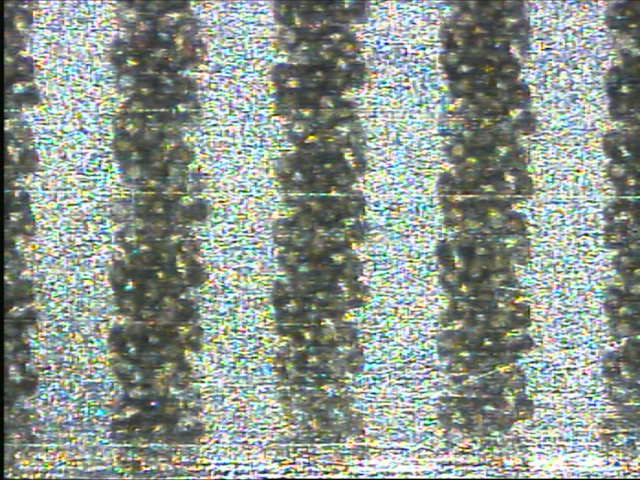line: (106, 1, 210, 466), (434, 1, 537, 443), (271, 1, 371, 450)
